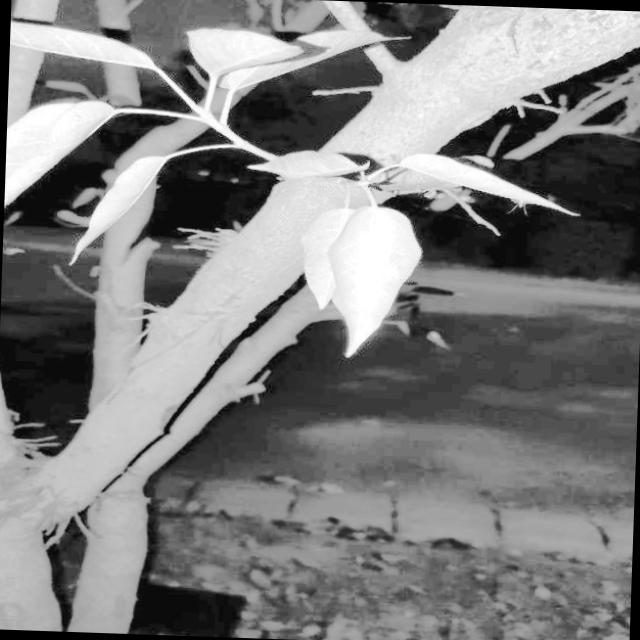Tree: (0, 0, 466, 640)
